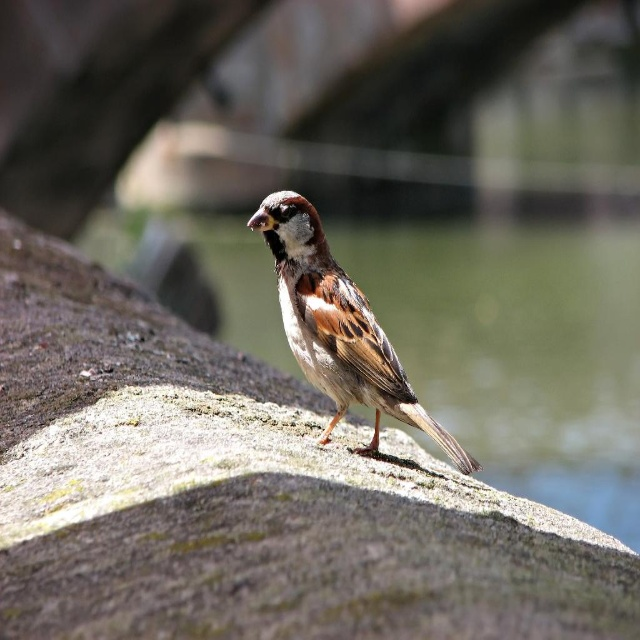Sparrow: (250, 189, 478, 475)
